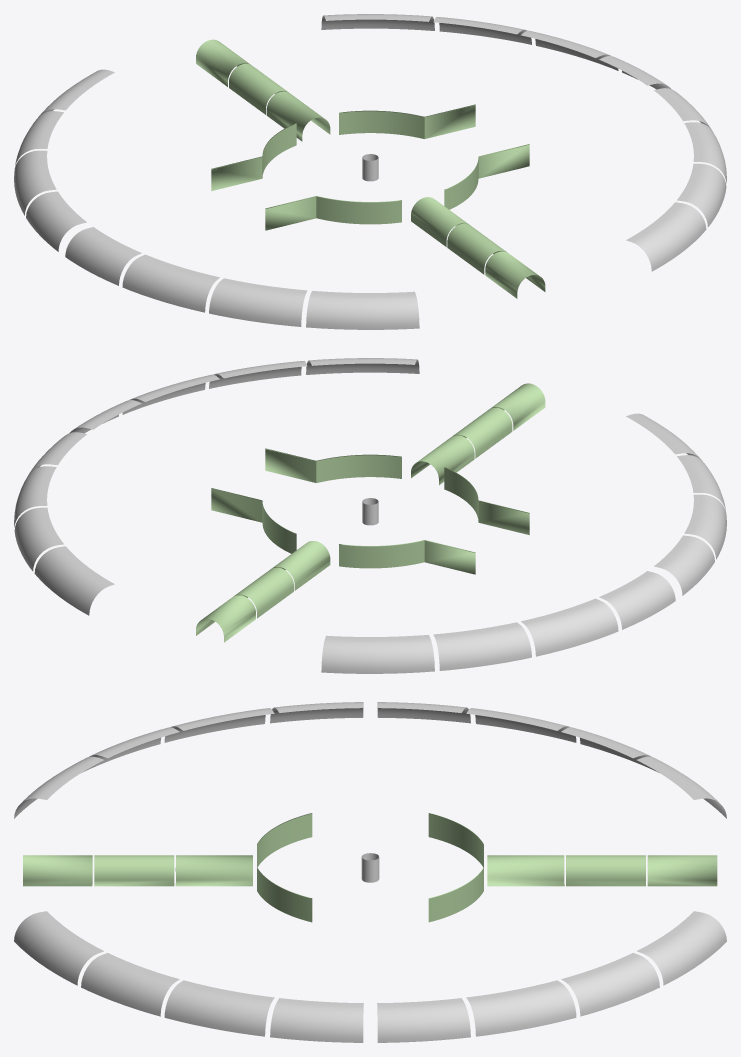
Rendered from fish_environment_1_4_water_only.glb.
3 views of the same model, one above another, from view 1: azimuth 30°, elevation 25°; view 2: azimuth 150°, elevation 25°; view 3: azimuth 270°, elevation 25° (orthographic). The views are drawn at different scales.
Visible parts, largest first — view 1: the big fish tank.009, tilapia_tank.008, tunnel.004; view 2: the big fish tank.009, tilapia_tank.008, tunnel.004; view 3: the big fish tank.009, tunnel.004, tilapia_tank.008.
Boxes of the visible parts, x1,y1,x2,y2 form: the big fish tank.009: (14, 14, 726, 329); tilapia_tank.008: (211, 104, 529, 230); tunnel.004: (196, 39, 545, 298); the big fish tank.009: (14, 358, 726, 673); tilapia_tank.008: (211, 448, 529, 574); tunnel.004: (196, 383, 545, 642); the big fish tank.009: (14, 702, 726, 1042); tunnel.004: (23, 855, 717, 886); tilapia_tank.008: (257, 813, 483, 922).
Size of the model in its own units: 65.98 by 2.34 by 61.15.
